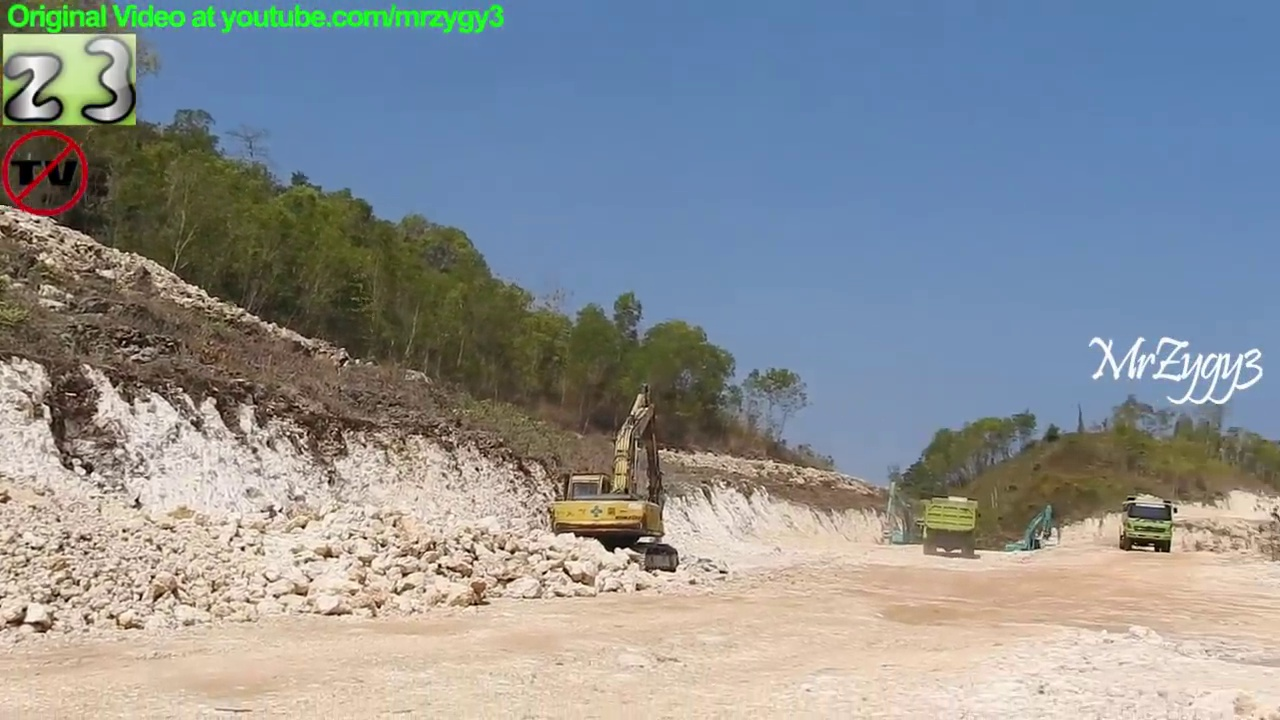excavator: (547, 379, 684, 578), (998, 500, 1062, 561)
excavator breaker: (877, 479, 922, 547)
truck: (1112, 492, 1182, 558), (922, 493, 981, 559)
